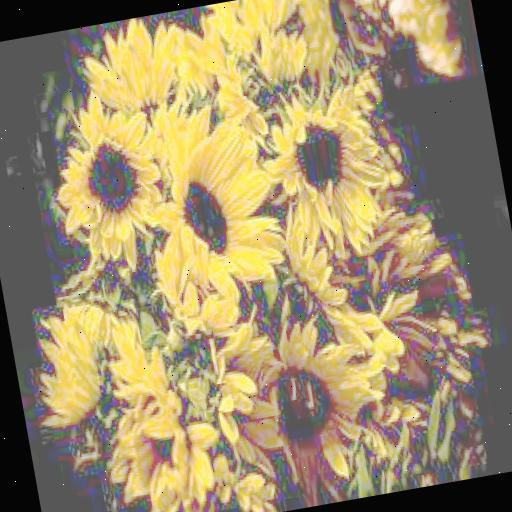sunflower: (140, 94, 290, 313), (254, 76, 397, 266), (41, 80, 176, 280)
